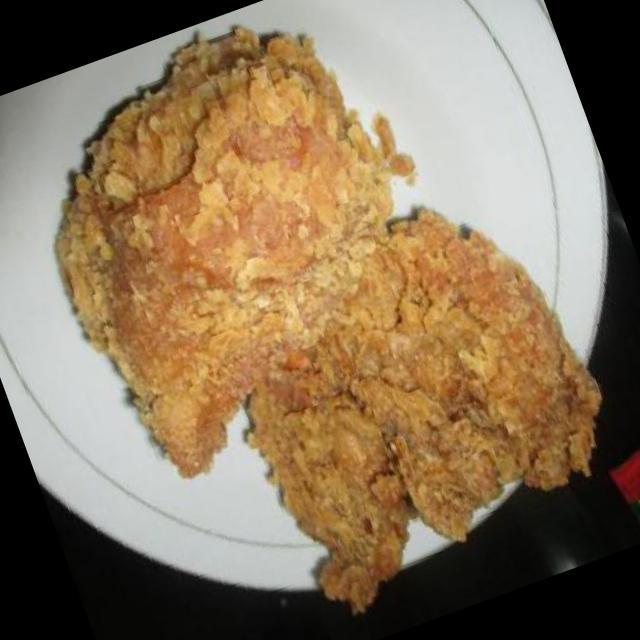Fried Chicken: (55, 26, 603, 614)
